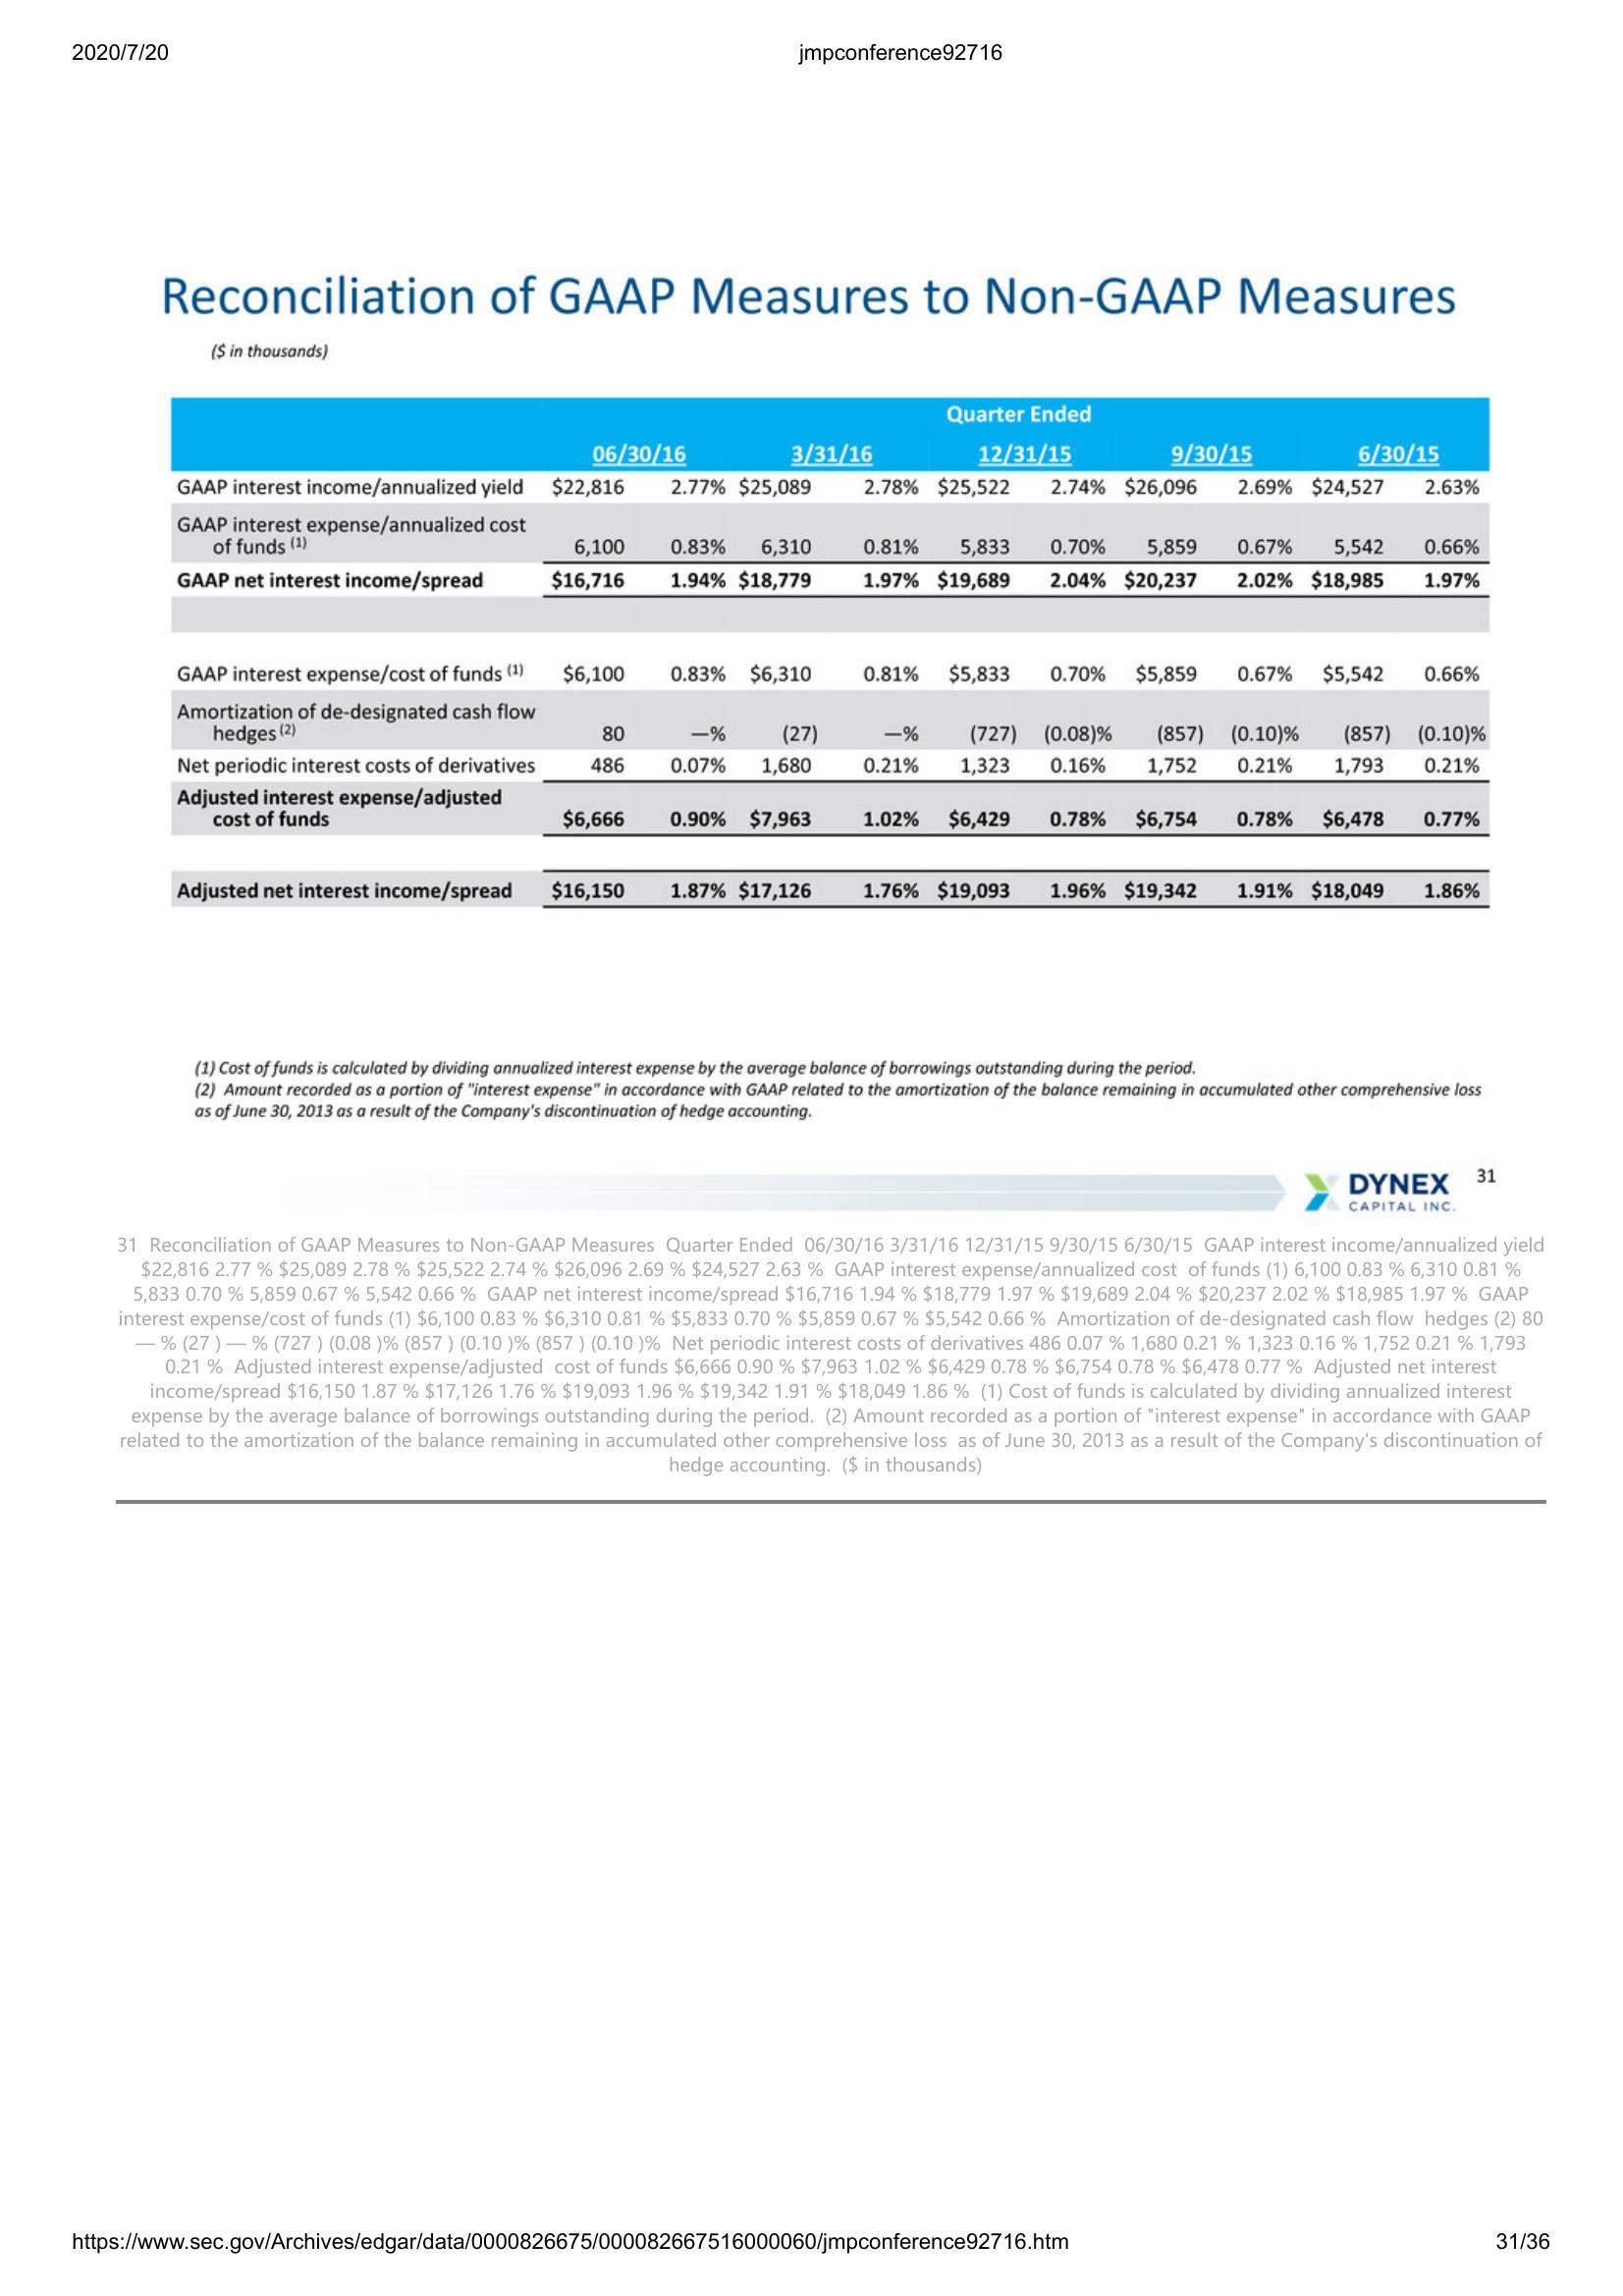table: (165, 393, 1498, 918)
